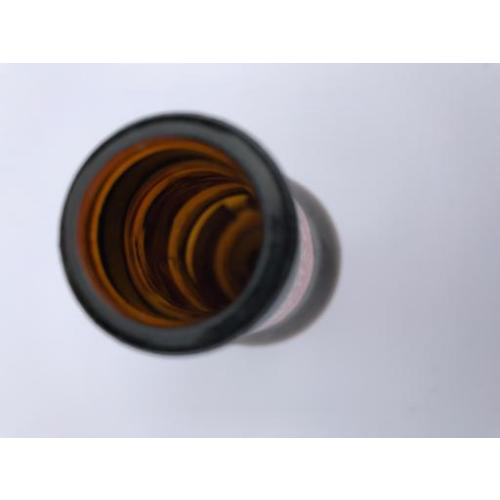glass: (60, 112, 298, 358)
